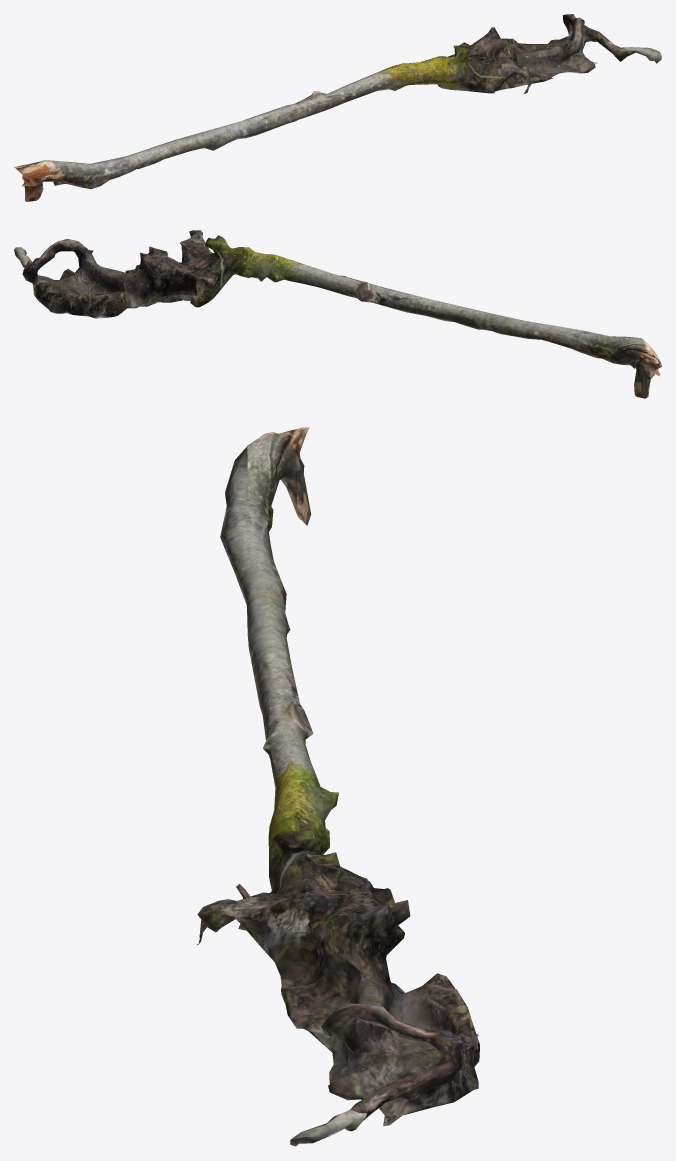
Rendered from SM_Branch_03.fbx.
3 views of the same model, one above another, from view 1: azimuth 30°, elevation 25°; view 2: azimuth 150°, elevation 25°; view 3: azimuth 270°, elevation 25° (orthographic). The views are drawn at different scales.
Parts seen in each view (by area): view 1: SM_Branch_03; view 2: SM_Branch_03; view 3: SM_Branch_03.
Part boxes in pixels (x1=…): SM_Branch_03: x1=14, y1=14, x2=661, y2=201; SM_Branch_03: x1=14, y1=230, x2=661, y2=398; SM_Branch_03: x1=197, y1=427, x2=479, y2=1146.
Size of the model in its own units: 423 by 81.07 by 44.69.
1 material, 1 textured.
